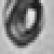correct: (2, 0, 48, 50)
